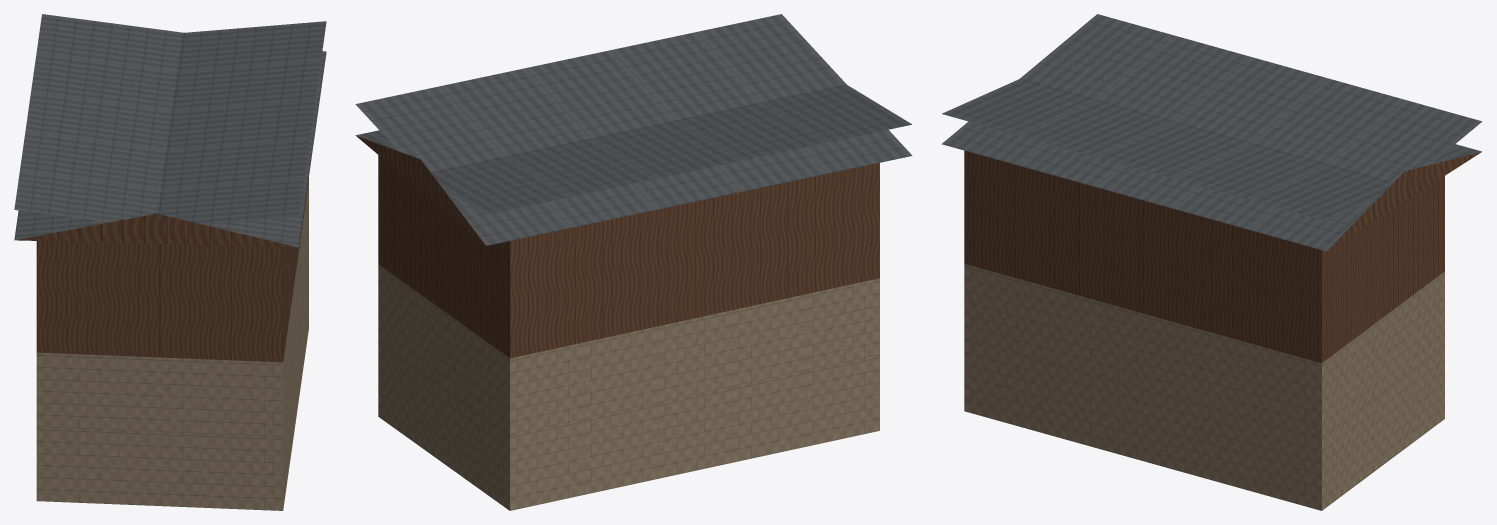
The model's file is bld_c13_-26_741.gltf.
3 views of the same model, side by side, from view 1: azimuth 30°, elevation 25°; view 2: azimuth 150°, elevation 25°; view 3: azimuth 270°, elevation 25° (orthographic). The views are drawn at different scales.
Parts seen in each view (by area): view 1: bld_c13_-26_741; view 2: bld_c13_-26_741; view 3: bld_c13_-26_741.
Part boxes in pixels (left/top/right/bottom): bld_c13_-26_741: left=14, top=14, right=326, bottom=510; bld_c13_-26_741: left=355, top=14, right=912, bottom=510; bld_c13_-26_741: left=941, top=14, right=1482, bottom=510.
Bounding box in the file's own units: 14.7 × 9.9 × 16.22.
Materials: 4 (4 with a texture image).
